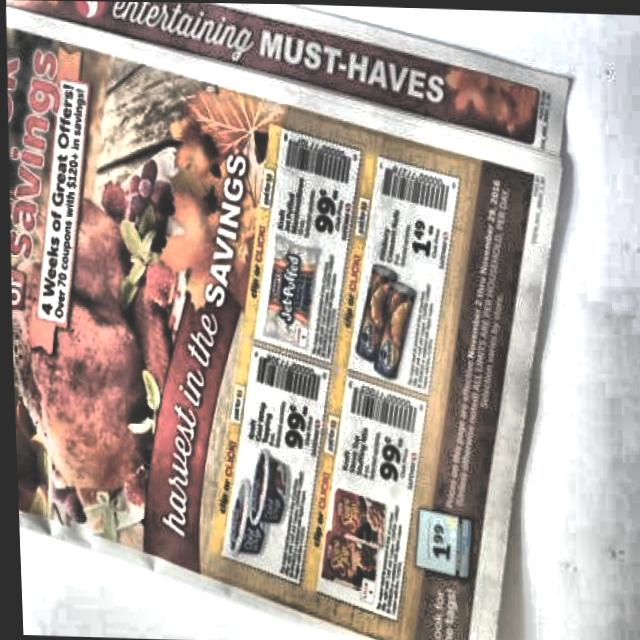Paper: (0, 0, 586, 640)
